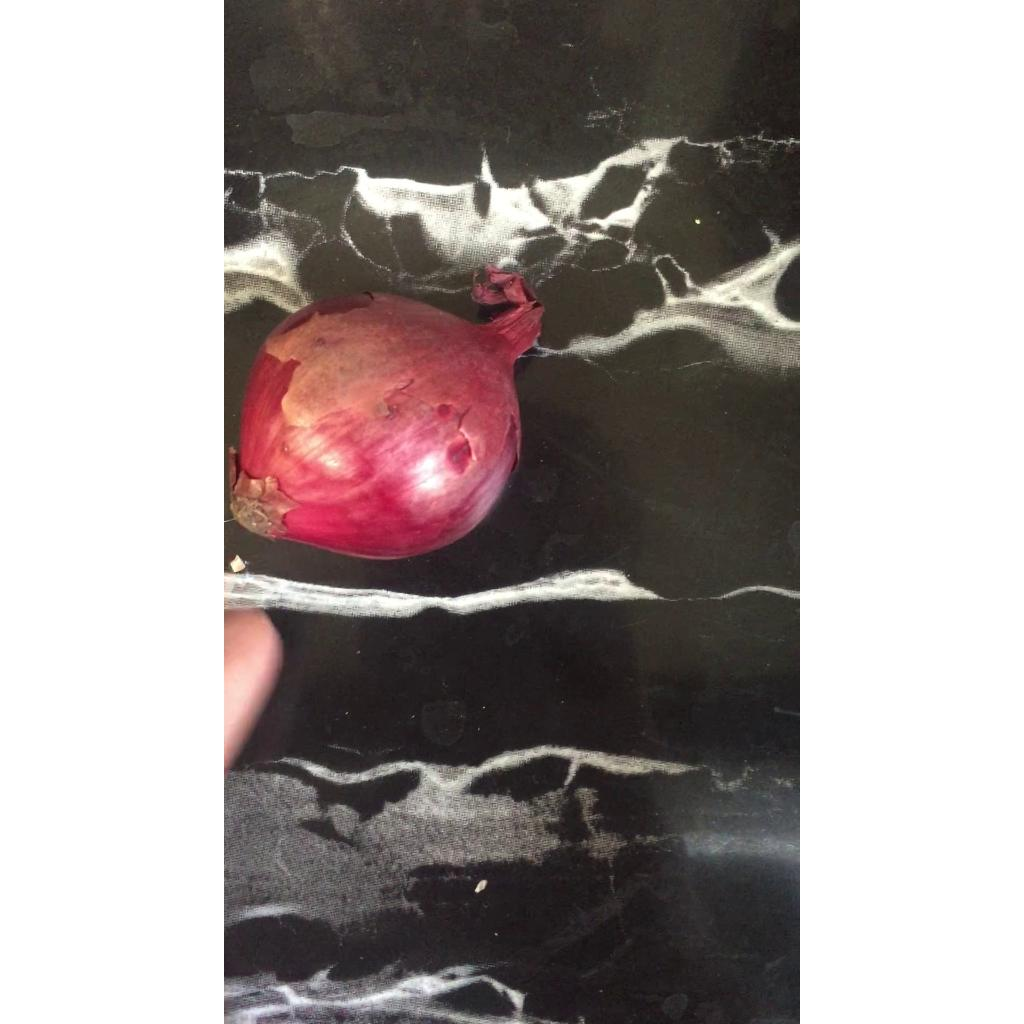Onion: (229, 264, 543, 559)
